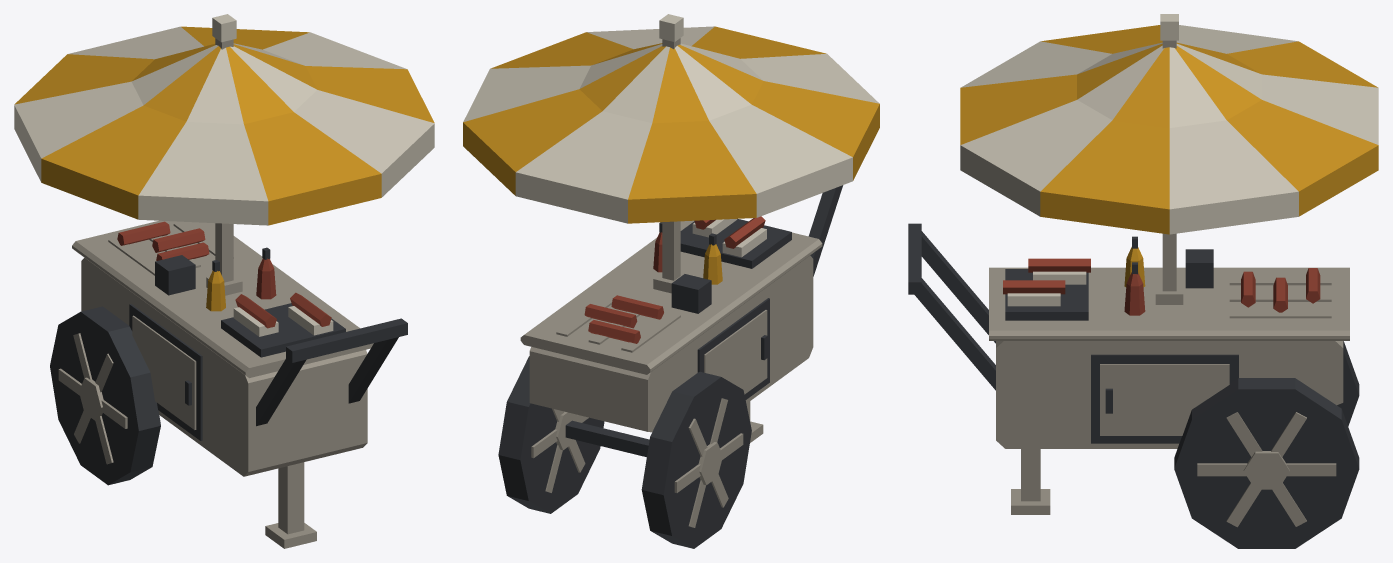
File: hot-dog-cart-115192.glb
3 renders of one model, left to right at view 1: azimuth 30°, elevation 25°; view 2: azimuth 150°, elevation 25°; view 3: azimuth 270°, elevation 25°, orthographic. The views are drawn at different scales.
Visible parts, largest first — view 1: umbrella-mesh, cart-body, wheel-left-mesh, condiments-mesh; view 2: umbrella-mesh, cart-body, wheel-left-mesh, wheel-right-mesh, condiments-mesh; view 3: umbrella-mesh, cart-body, wheel-right-mesh, condiments-mesh, wheel-left-mesh.
Boxes of the visible parts, x1,y1,x2,y2 form: umbrella-mesh: (14,14,434,282); cart-body: (72,220,407,548); wheel-left-mesh: (50,306,160,485); condiments-mesh: (206,247,276,311); umbrella-mesh: (463,14,879,280); cart-body: (520,185,843,457); wheel-left-mesh: (641,371,751,548); wheel-right-mesh: (498,356,604,513); condiments-mesh: (653,222,722,284); umbrella-mesh: (960,14,1378,291); cart-body: (908,223,1349,514); wheel-right-mesh: (1174,378,1359,548); condiments-mesh: (1124,236,1145,315); wheel-left-mesh: (1337,341,1359,426).
Size of the model in its own units: 1.9 by 2.33 by 2.03.
